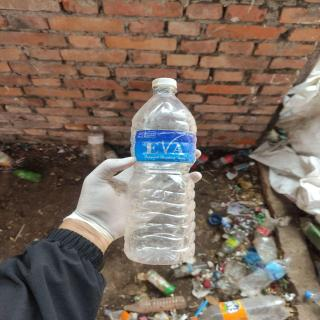Plastic-bottle: (124, 76, 202, 269)
